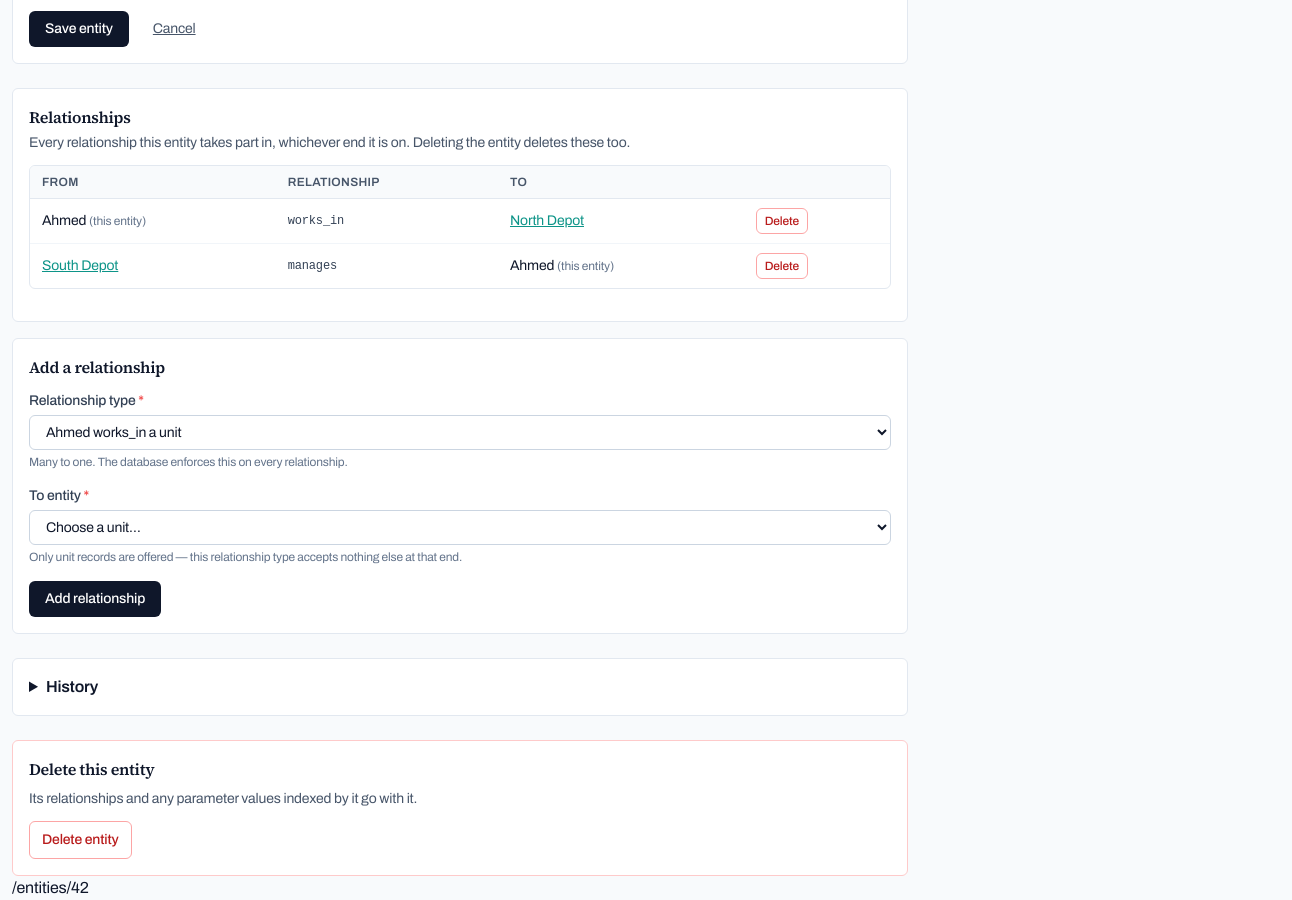
Scenario: EntityRecord: the entity's relationships › refuses to add one with no other end chosen, without sending anything
(page scrolled)
Check: the dropdown with test id "relationship-other-select" is shown, box [29, 510, 891, 545]
Click the button "Add relationship". click: click(95, 599)
box: [29, 581, 161, 617]
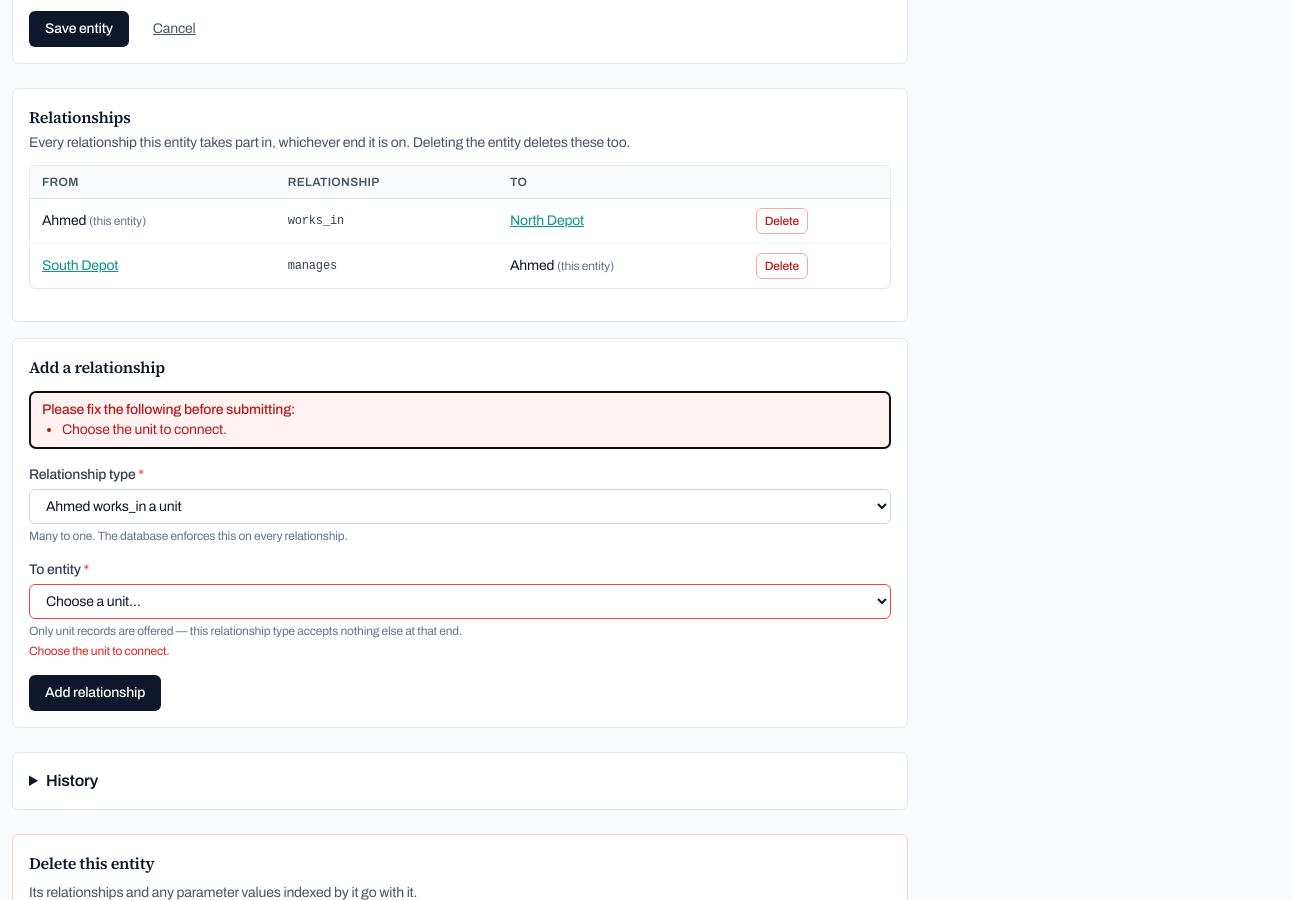
Check: the message with test id "form-errors" shows "Choose the unit to connect", box [62, 422, 227, 437]
